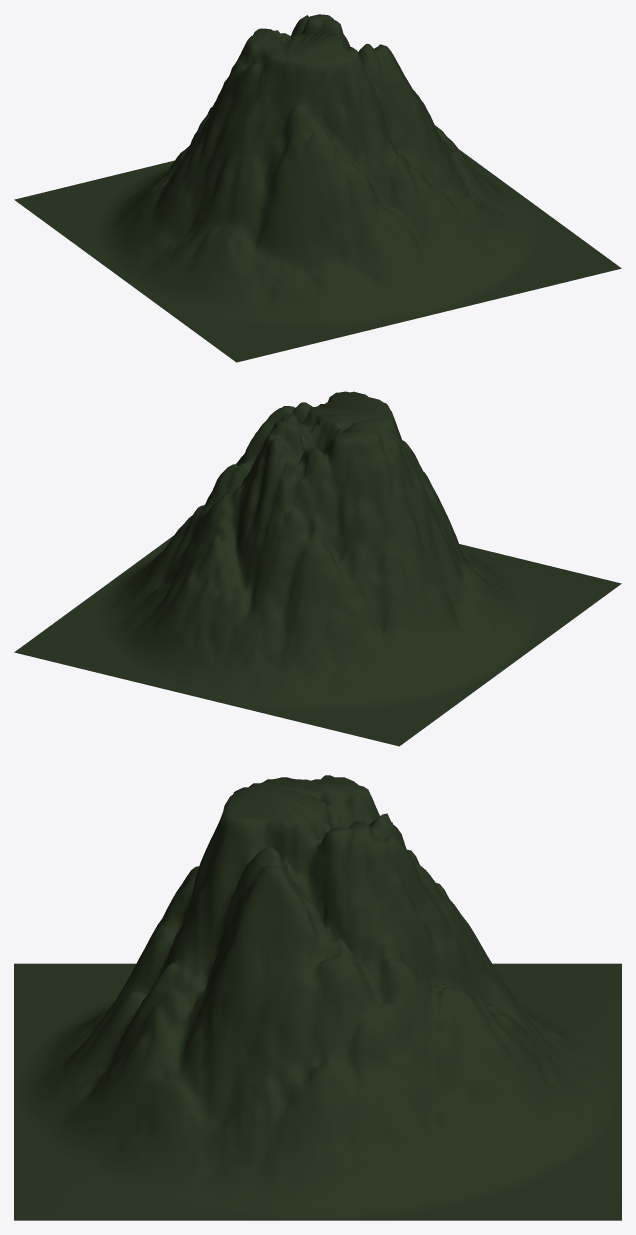
The model's file is Gunung.fbx.
3 views of the same model, one above another, from view 1: azimuth 30°, elevation 25°; view 2: azimuth 150°, elevation 25°; view 3: azimuth 270°, elevation 25° (orthographic). The views are drawn at different scales.
Visible parts, largest first — view 1: Landscape; view 2: Landscape; view 3: Landscape.
Part boxes in pixels (x1,y1,x2,y2): Landscape: (14,14,621,362); Landscape: (14,391,621,746); Landscape: (14,775,621,1220).
Size of the model in its own units: 200 by 100 by 200.
